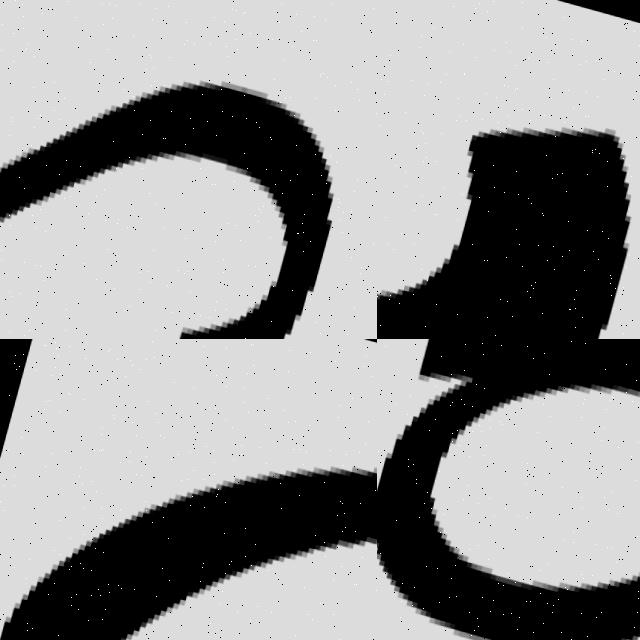0: (0, 363, 377, 640)
2: (0, 0, 377, 339)
C: (377, 117, 635, 339)
D: (377, 339, 640, 640)
